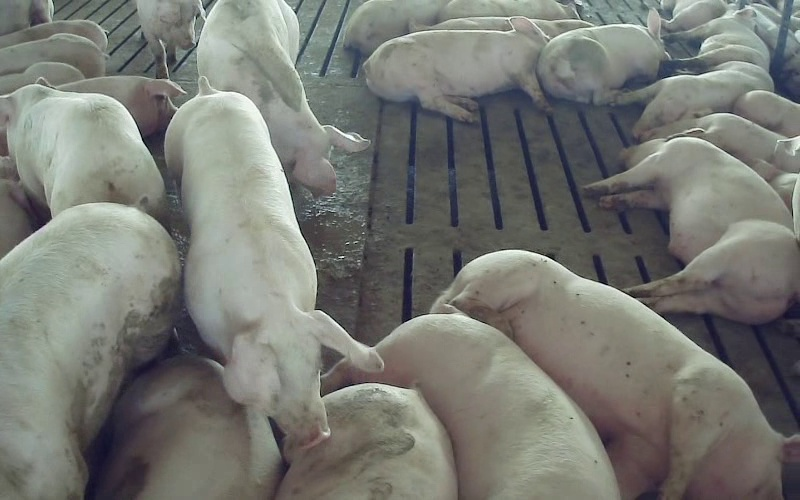pig: (322, 314, 618, 499), (0, 203, 178, 499), (585, 129, 799, 323), (197, 0, 369, 194), (93, 356, 282, 499), (276, 383, 456, 499), (364, 17, 550, 121), (615, 61, 773, 138), (537, 9, 664, 104), (642, 113, 799, 171), (56, 76, 185, 136), (663, 8, 769, 74)
